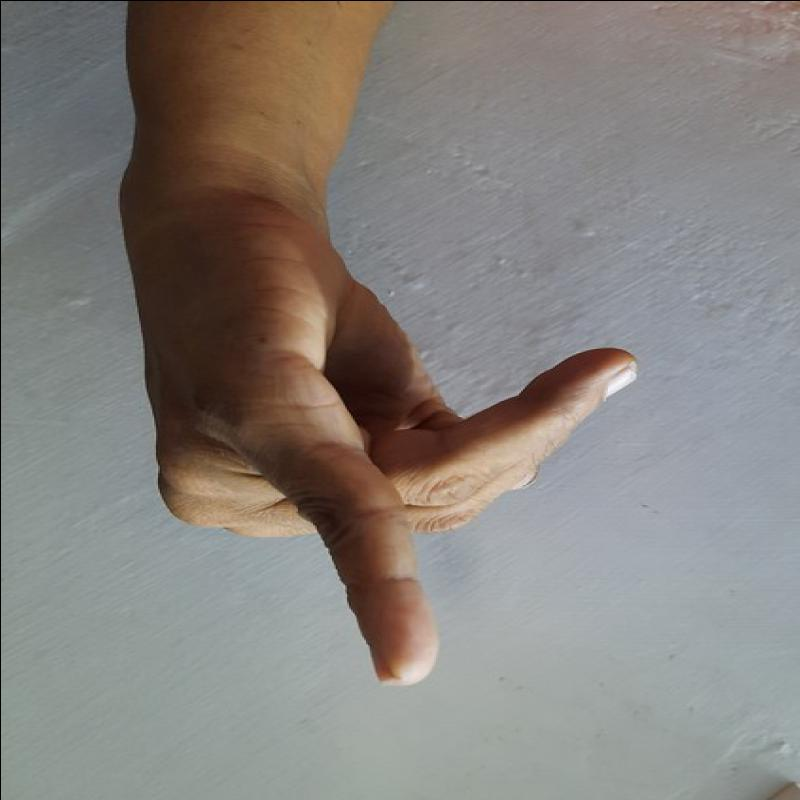Kartharee Mukham: (104, 178, 649, 693)
